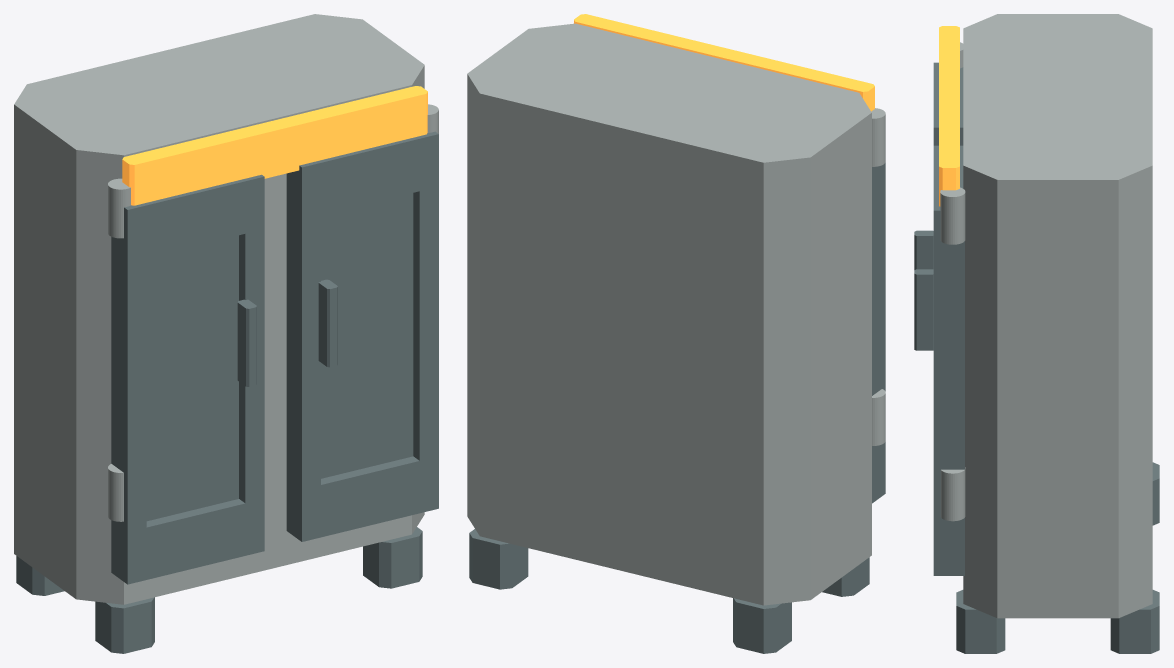
Rendered from refinery-dressing-service-cabinet-lod0.glb.
The picture shows the model from 3 angles, left to right: view 1: azimuth 30°, elevation 25°; view 2: azimuth 150°, elevation 25°; view 3: azimuth 270°, elevation 25°; orthographic projection. The views are drawn at different scales.
Parts seen in each view (by area): view 1: cabinet-door (×2), cabinet-frame, cabinet-header, cabinet-foot (×3), cabinet-grip (×2), cabinet-hinge (×2); view 2: cabinet-frame, cabinet-foot (×3), cabinet-header, cabinet-door, cabinet-hinge (×2); view 3: cabinet-frame, cabinet-door (×2), cabinet-foot (×3), cabinet-header, cabinet-hinge (×2), cabinet-grip (×2).
Part boxes in pixels (<box>): cabinet-door (×2): <box>111,131,438,584</box>; cabinet-frame: <box>14,14,424,604</box>; cabinet-header: <box>122,86,427,205</box>; cabinet-foot (×3): <box>16,527,422,653</box>; cabinet-grip (×2): <box>237,279,337,386</box>; cabinet-hinge (×2): <box>108,178,130,521</box>; cabinet-frame: <box>467,23,871,605</box>; cabinet-foot (×3): <box>469,529,869,653</box>; cabinet-header: <box>574,14,874,111</box>; cabinet-door: <box>872,162,885,503</box>; cabinet-hinge (×2): <box>871,108,885,445</box>; cabinet-frame: <box>963,14,1152,618</box>; cabinet-door (×2): <box>933,62,964,575</box>; cabinet-foot (×3): <box>956,462,1159,653</box>; cabinet-header: <box>939,26,959,206</box>; cabinet-hinge (×2): <box>940,187,965,521</box>; cabinet-grip (×2): <box>914,230,933,350</box>.
Bounding box in the file's own units: 1.12 × 1.52 × 0.7.
